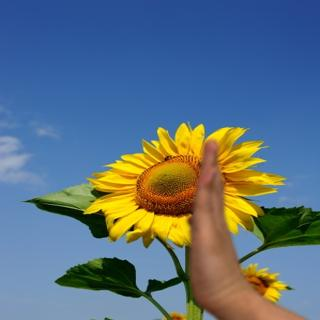RIGHT: (175, 133, 251, 313)
